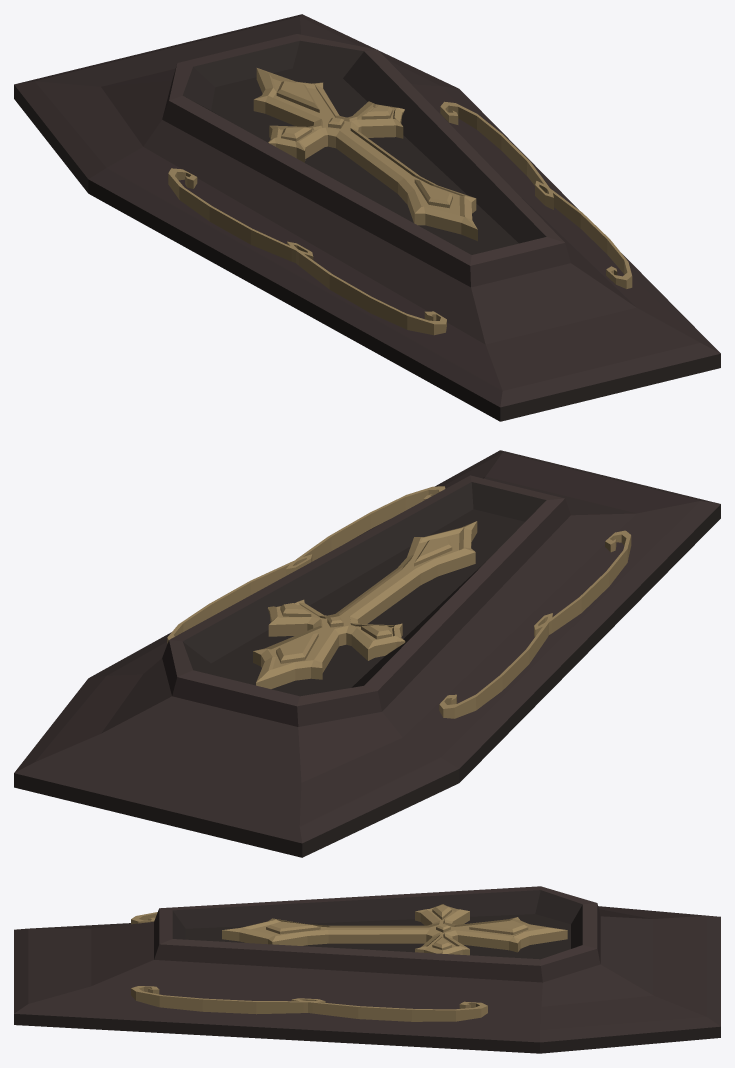
The model's file is WF_LP_HT_Props_CoffinDoor.003.fbx.
3 views of the same model, one above another, from view 1: azimuth 30°, elevation 25°; view 2: azimuth 150°, elevation 25°; view 3: azimuth 270°, elevation 25° (orthographic). The views are drawn at different scales.
Parts seen in each view (by area): view 1: WF_LP_HT_Props_CoffinDoor.003; view 2: WF_LP_HT_Props_CoffinDoor.003; view 3: WF_LP_HT_Props_CoffinDoor.003.
Boxes of the visible parts, x1,y1,x2,y2 form: WF_LP_HT_Props_CoffinDoor.003: (14,14,720,421); WF_LP_HT_Props_CoffinDoor.003: (14,450,720,857); WF_LP_HT_Props_CoffinDoor.003: (14,886,720,1053).
Size of the model in its own units: 1.13 by 0.2169 by 2.38.
